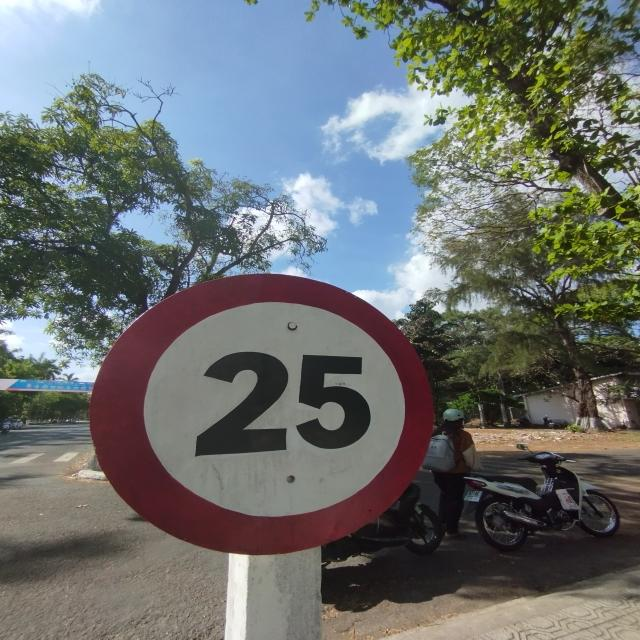Tre_Em: (87, 270, 433, 557)
